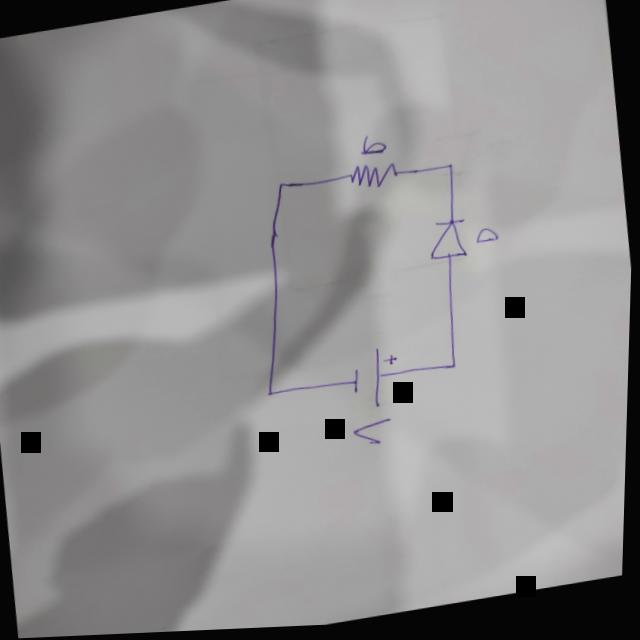diode: (427, 219, 474, 266)
junction: (265, 388, 281, 401), (443, 163, 458, 176), (276, 181, 290, 193), (450, 363, 463, 374)
resistor: (347, 160, 404, 196)
source: (348, 346, 407, 415)
text: (353, 419, 398, 451), (358, 134, 391, 160), (471, 228, 505, 251)
